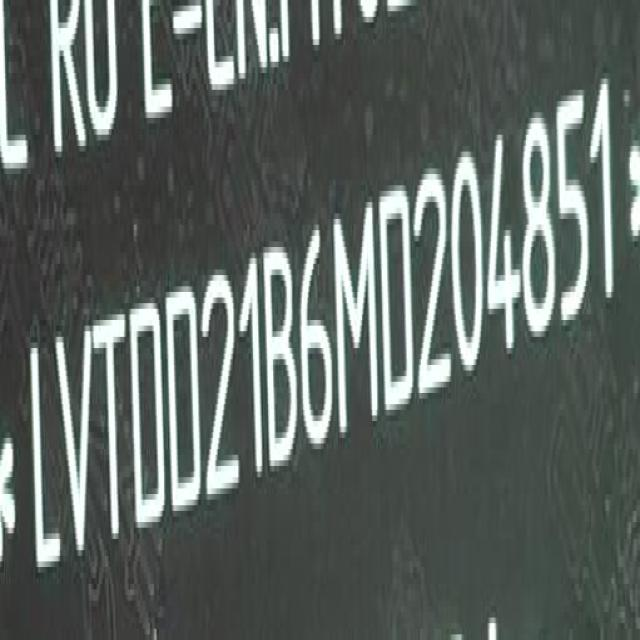0: (452, 147, 486, 378)
1: (238, 257, 263, 485), (594, 76, 618, 312)
2: (415, 170, 453, 404), (205, 274, 242, 503)
4: (485, 129, 523, 361)
5: (556, 83, 591, 330)
6: (301, 228, 337, 455)
8: (522, 111, 555, 345)
B: (264, 240, 298, 473)
D: (128, 298, 165, 533), (165, 292, 202, 524), (381, 182, 417, 417)
L: (26, 334, 61, 582)
M: (336, 199, 380, 433)
T: (96, 307, 130, 559)
V: (56, 324, 96, 571)
